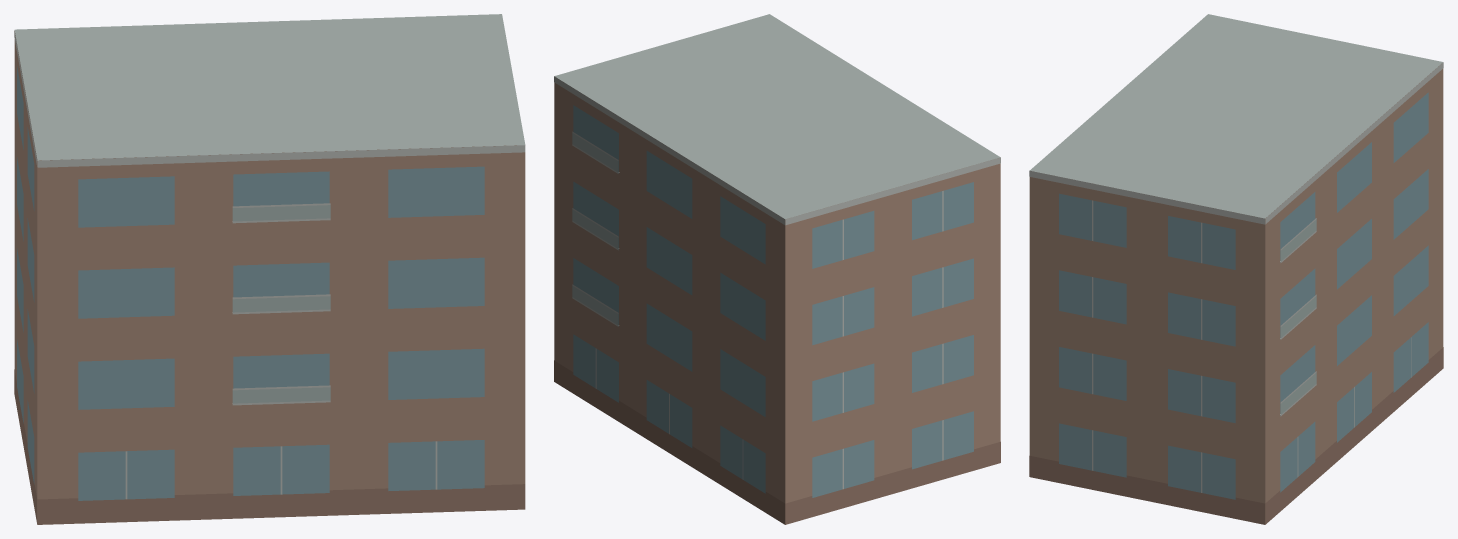
Rendered from residential-35cbdfc6-c13b-4c5a-9aaf-4d7831043a03.glb.
The picture shows the model from 3 angles, left to right: view 1: azimuth 30°, elevation 25°; view 2: azimuth 150°, elevation 25°; view 3: azimuth 270°, elevation 25°; orthographic projection. The views are drawn at different scales.
Parts seen in each view (by area): view 1: residential-35cbdfc6-c13b-4c5a-9aaf-4d7831043a03.tmp; view 2: residential-35cbdfc6-c13b-4c5a-9aaf-4d7831043a03.tmp; view 3: residential-35cbdfc6-c13b-4c5a-9aaf-4d7831043a03.tmp.
Part boxes in pixels (x1=…): residential-35cbdfc6-c13b-4c5a-9aaf-4d7831043a03.tmp: x1=14, y1=14, x2=525, y2=524; residential-35cbdfc6-c13b-4c5a-9aaf-4d7831043a03.tmp: x1=554, y1=14, x2=1000, y2=524; residential-35cbdfc6-c13b-4c5a-9aaf-4d7831043a03.tmp: x1=1029, y1=14, x2=1443, y2=524.
Size of the model in its own units: 17.48 by 12.2 by 14.95.
